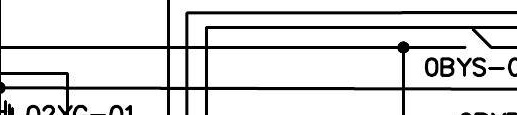115_ds: (462, 29, 492, 50)
